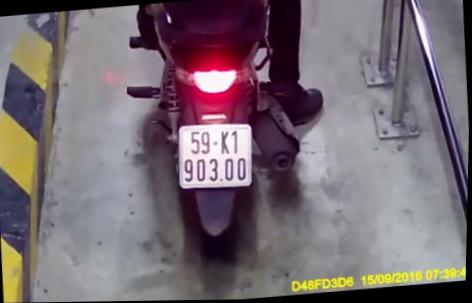LP: (176, 119, 257, 194)
